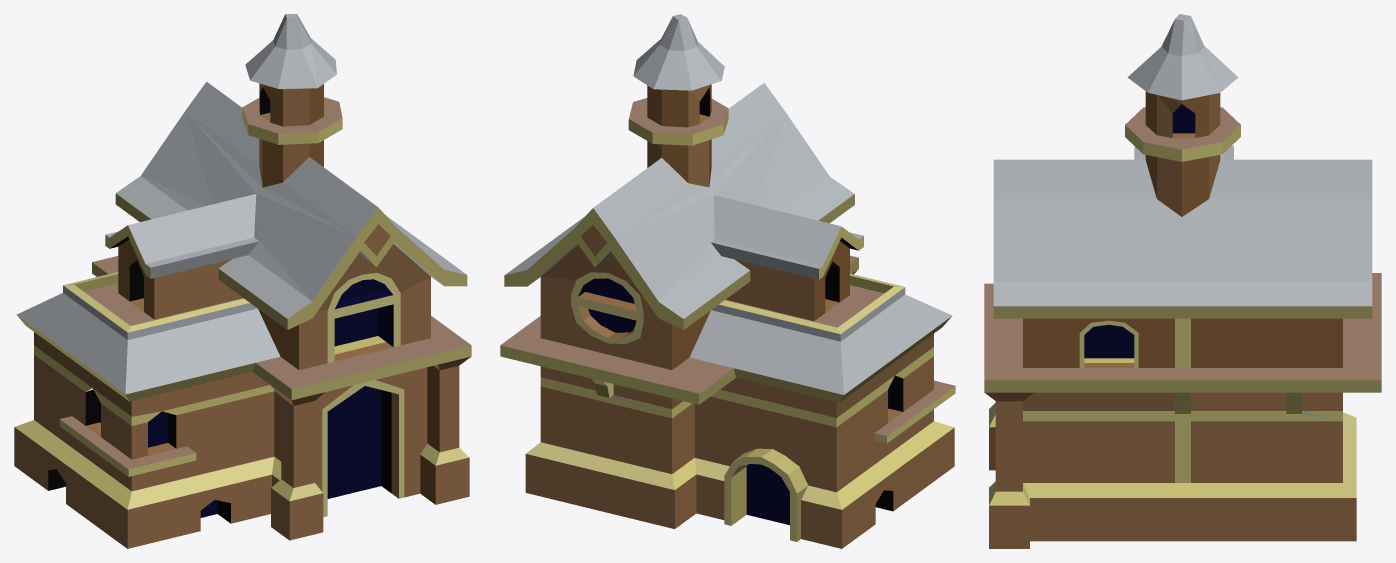
File: menagerie.gltf
3 views of the same model, side by side, from view 1: azimuth 30°, elevation 25°; view 2: azimuth 150°, elevation 25°; view 3: azimuth 270°, elevation 25° (orthographic). The views are drawn at different scales.
Bounding box in the file's own units: 174 × 235 × 175.
Materials: 1 (1 with a texture image).
